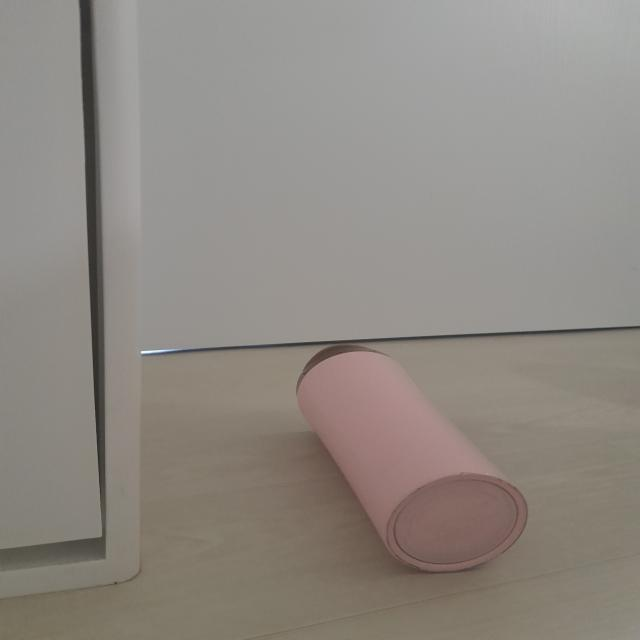waterbottle: (298, 343, 532, 570)
